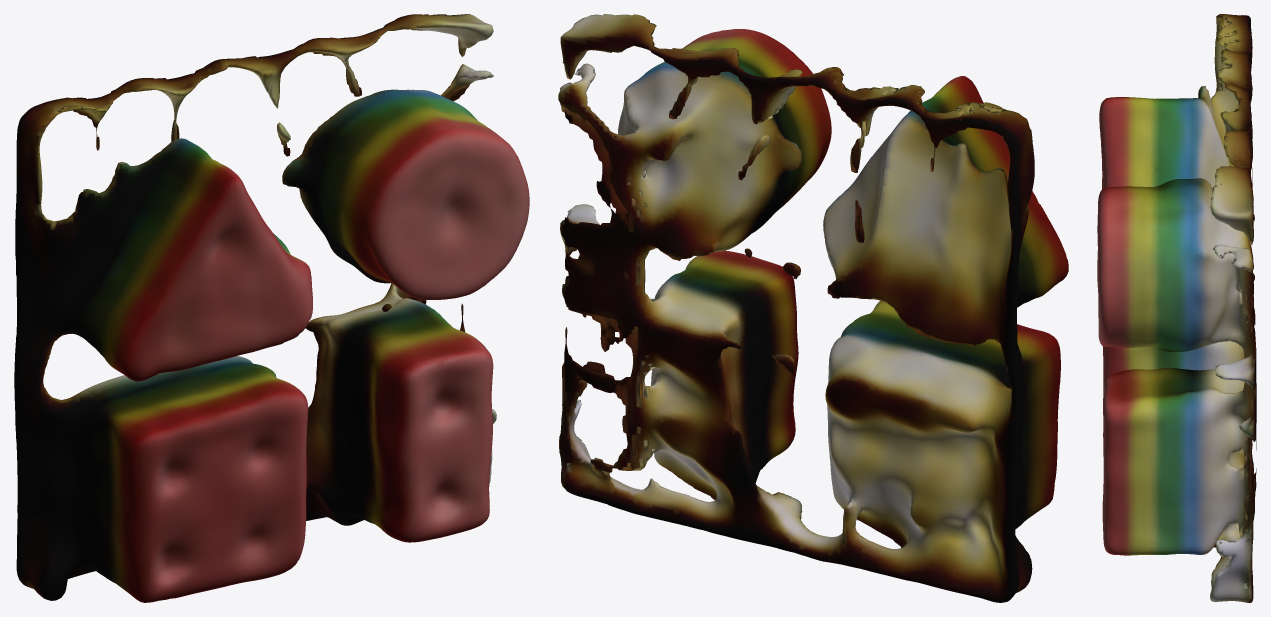
File: sorting_board.glb
3 views of the same model, side by side, from view 1: azimuth 30°, elevation 25°; view 2: azimuth 150°, elevation 25°; view 3: azimuth 270°, elevation 25° (orthographic). The views are drawn at different scales.
Bounding box in the file's own units: 0.9953 × 0.9989 × 0.3434.
